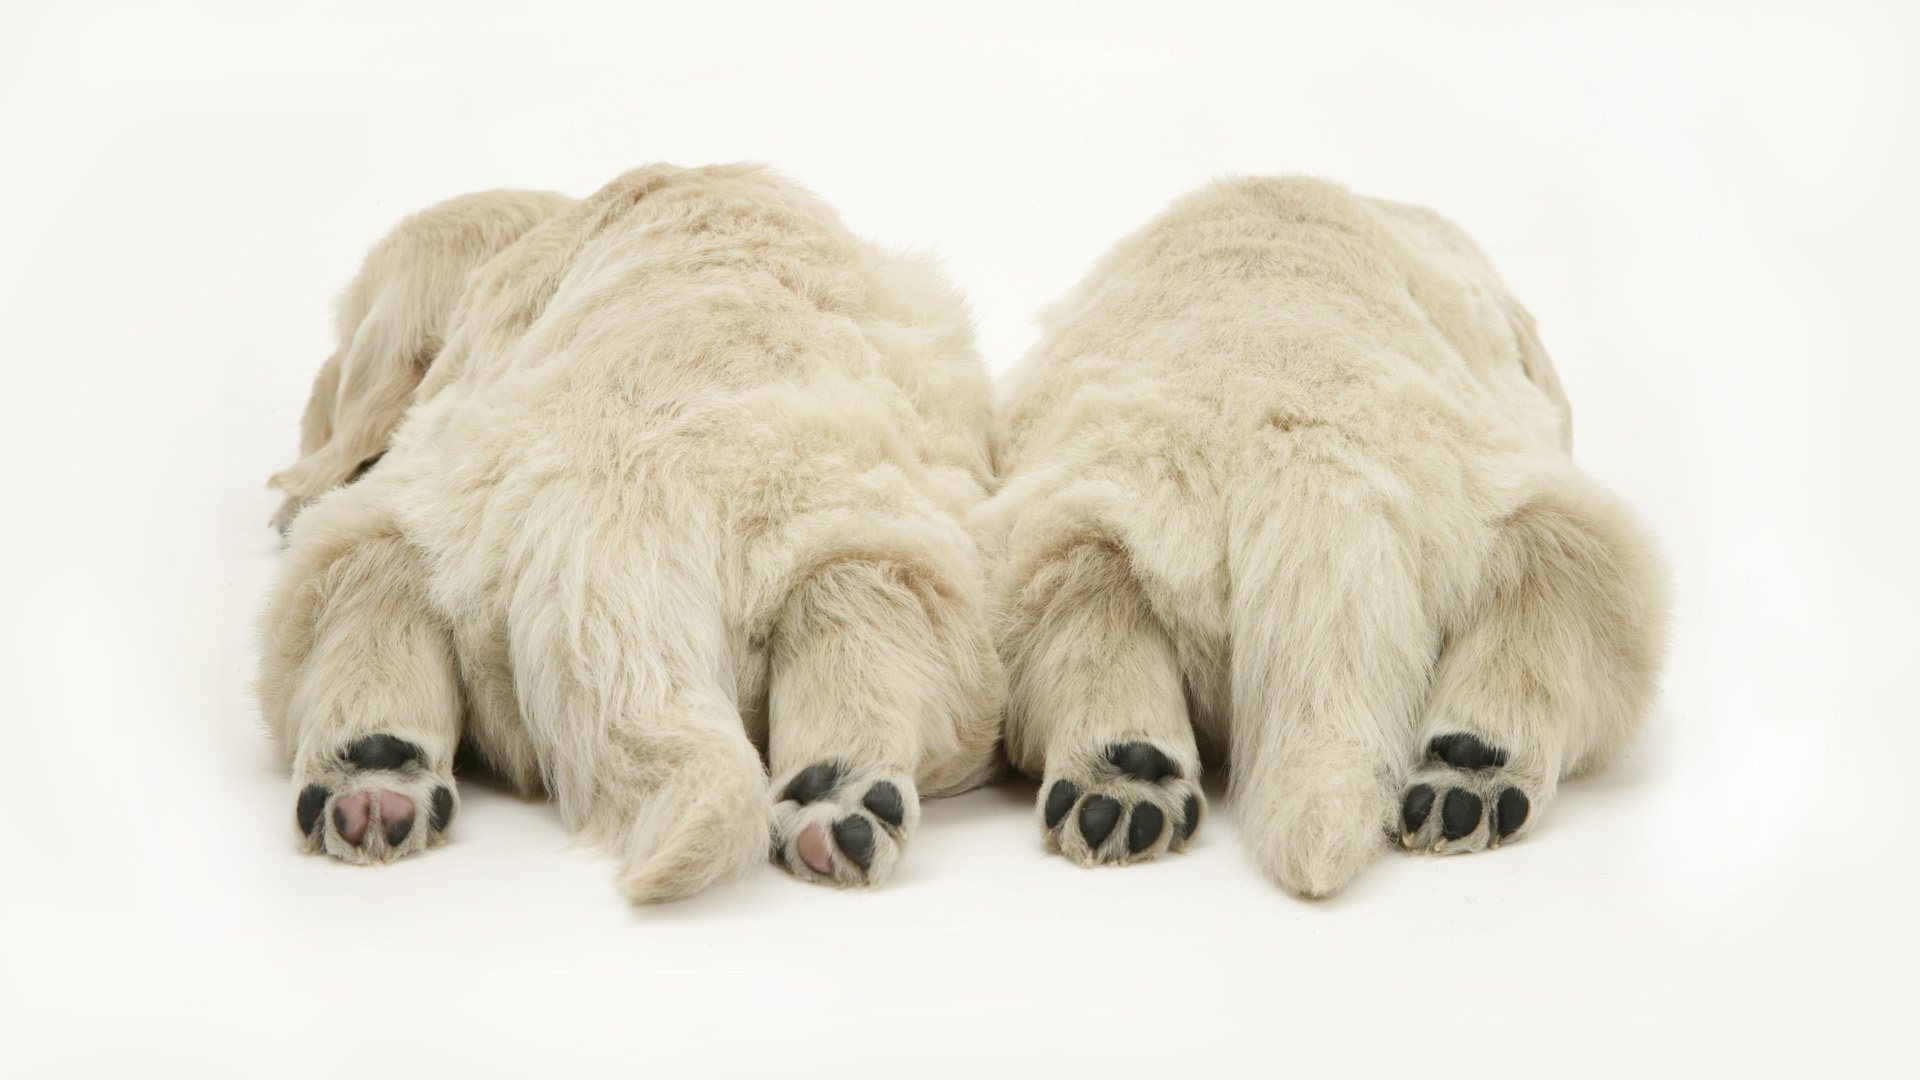dog: (260, 173, 1014, 887), (984, 161, 1681, 899)
